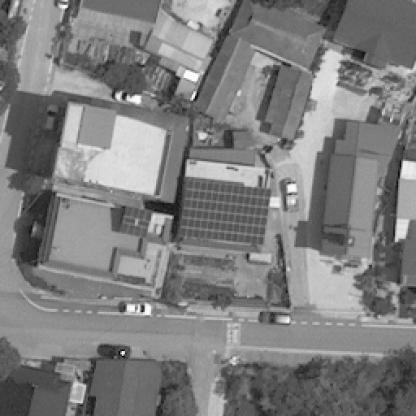solar-pv-panel: (180, 178, 271, 244), (118, 205, 154, 238)
